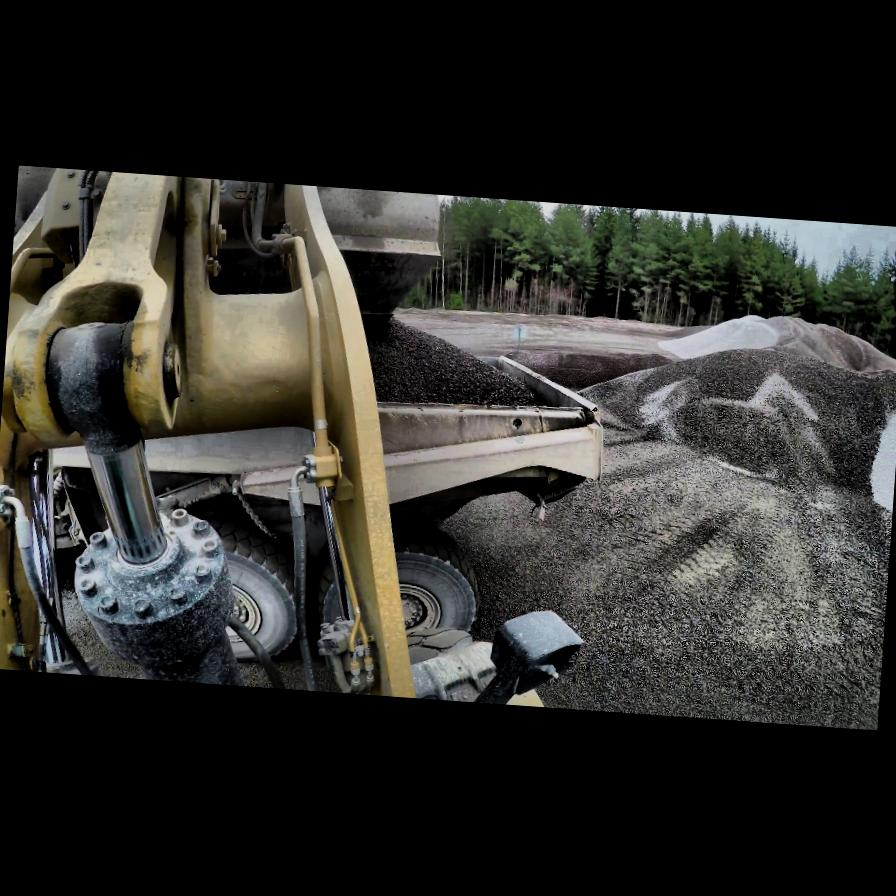anchor: (37, 314, 154, 448)
pile of gravel: (563, 332, 896, 524), (503, 342, 676, 400), (753, 314, 896, 376), (656, 309, 779, 366), (866, 386, 896, 530)
